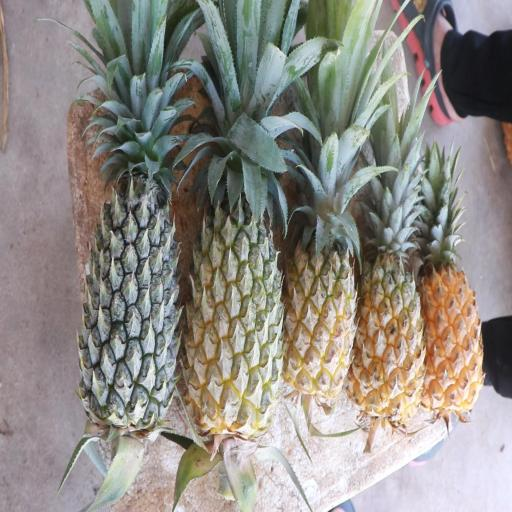------------------------------: (186, 86, 290, 436)
Pineapple - v8 v1: (287, 157, 363, 401), (359, 178, 428, 415), (424, 209, 488, 408)
